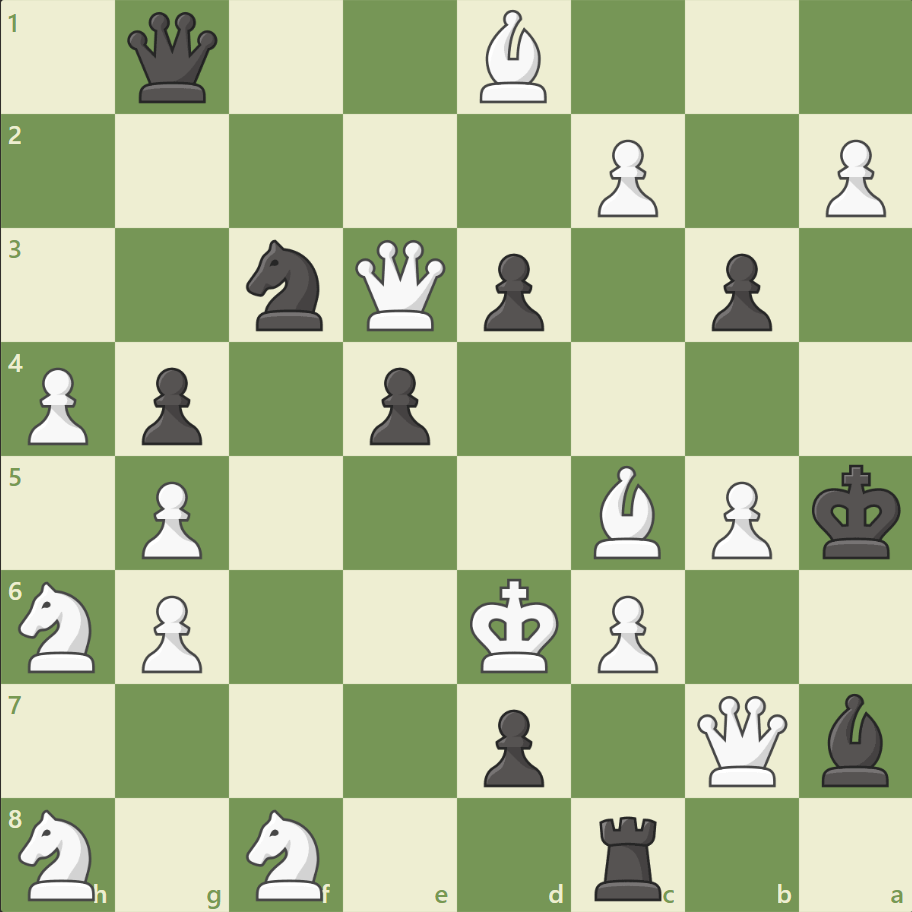B: (585, 460, 669, 563), (471, 6, 555, 109)
K: (465, 571, 565, 679)
N: (238, 802, 335, 904), (11, 802, 108, 904), (11, 575, 108, 677)
P: (133, 586, 208, 677), (701, 473, 776, 564), (133, 473, 208, 564), (20, 359, 95, 450), (588, 586, 662, 677), (815, 132, 889, 223), (588, 132, 662, 223)
Q: (691, 690, 790, 789), (351, 236, 450, 335)
b: (812, 687, 896, 790)
k: (806, 458, 906, 566)
n: (238, 234, 335, 337)
p: (474, 700, 549, 791), (133, 359, 208, 450), (701, 246, 776, 337), (474, 246, 549, 337), (361, 359, 435, 450)
q: (124, 9, 223, 108)
r: (587, 806, 670, 904)
